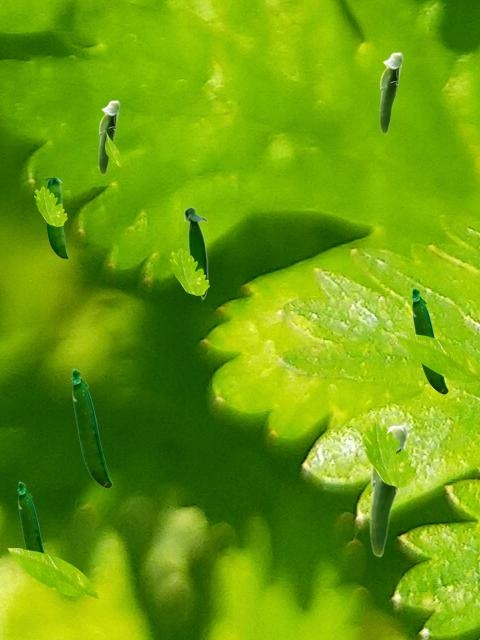pea: (369, 424, 407, 556), (71, 368, 111, 487), (411, 287, 447, 393), (183, 206, 207, 300), (17, 481, 44, 552), (379, 52, 402, 133), (46, 178, 67, 259), (98, 100, 119, 174)
